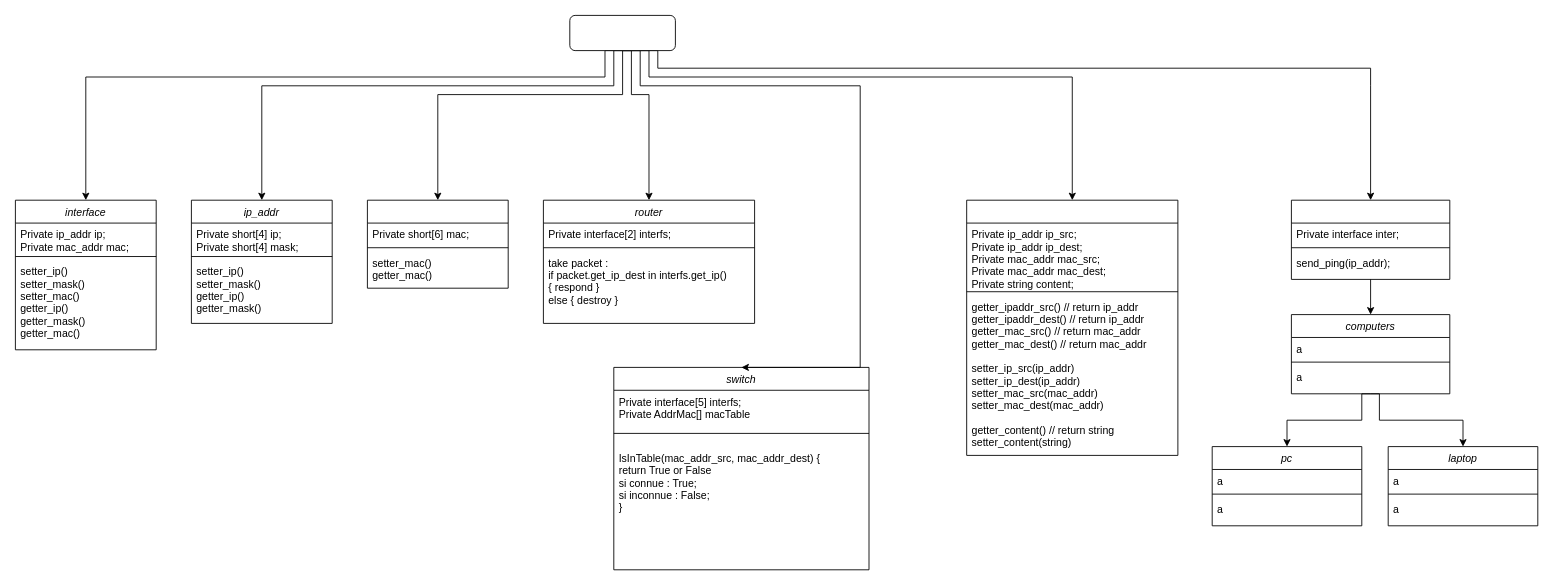
Some shapes in this 1553 by 588 pixel diagram are drawn without their labels. The shapes that lost their labels are listed below. From the top down, each one's box as (x1, y1, x2, y2) in pixels, then its label:
(569, 15, 675, 51): Traceur de paquet
(367, 199, 508, 288): mac_addr
(1291, 199, 1450, 279): clients
(966, 199, 1178, 455): packet
